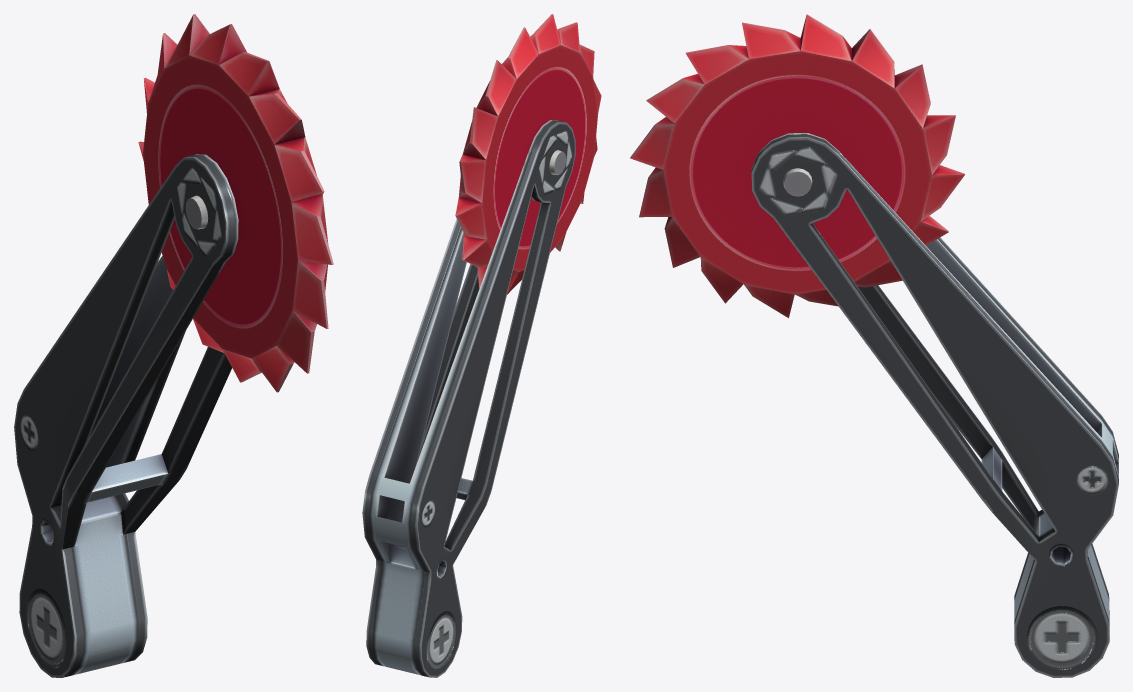
The model's file is upper_deathsaw.fbx.
3 renders of one model, left to right at view 1: azimuth 30°, elevation 25°; view 2: azimuth 150°, elevation 25°; view 3: azimuth 270°, elevation 25°, orthographic. The views are drawn at different scales.
Parts seen in each view (by area): view 1: Death Saw.002, saw; view 2: Death Saw.002, saw; view 3: Death Saw.002, saw.
Part boxes in pixels (box(x1,y1,x2,y2)): Death Saw.002: box(14, 154, 238, 677); saw: box(138, 14, 333, 392); Death Saw.002: box(362, 120, 575, 677); saw: box(455, 14, 601, 294); Death Saw.002: box(751, 133, 1118, 677); saw: box(630, 14, 965, 318).
Bounding box in the file's own units: 43.88 × 277 × 189.
